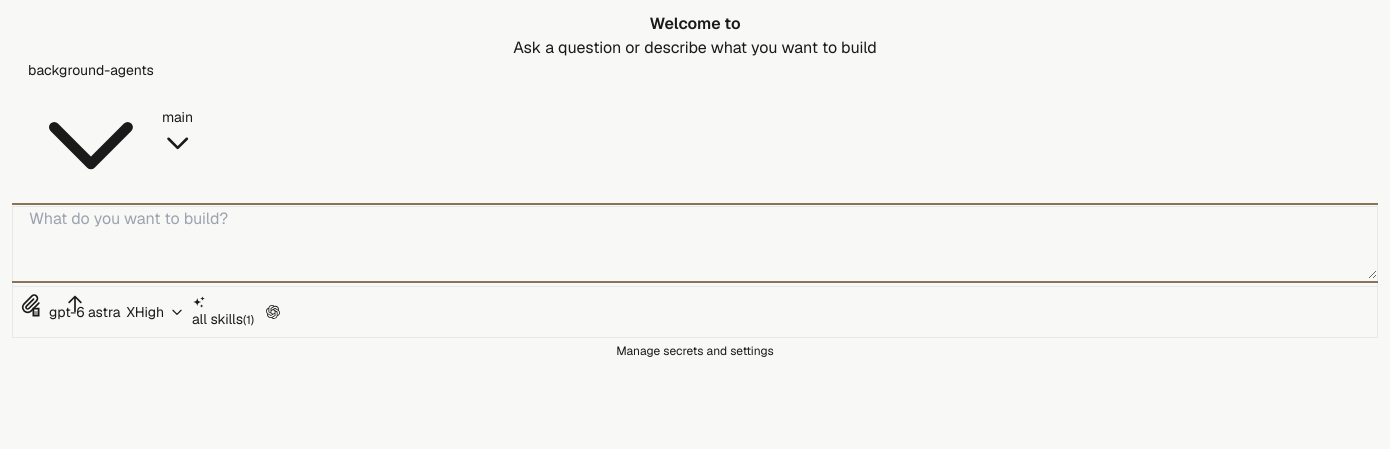
Test: Home › surfaces the error and stays put when the initial prompt fails
The width and height of the screenshot is (1390, 449).
Click the button "background-agents" at (91, 133), box [28,60,154,206]
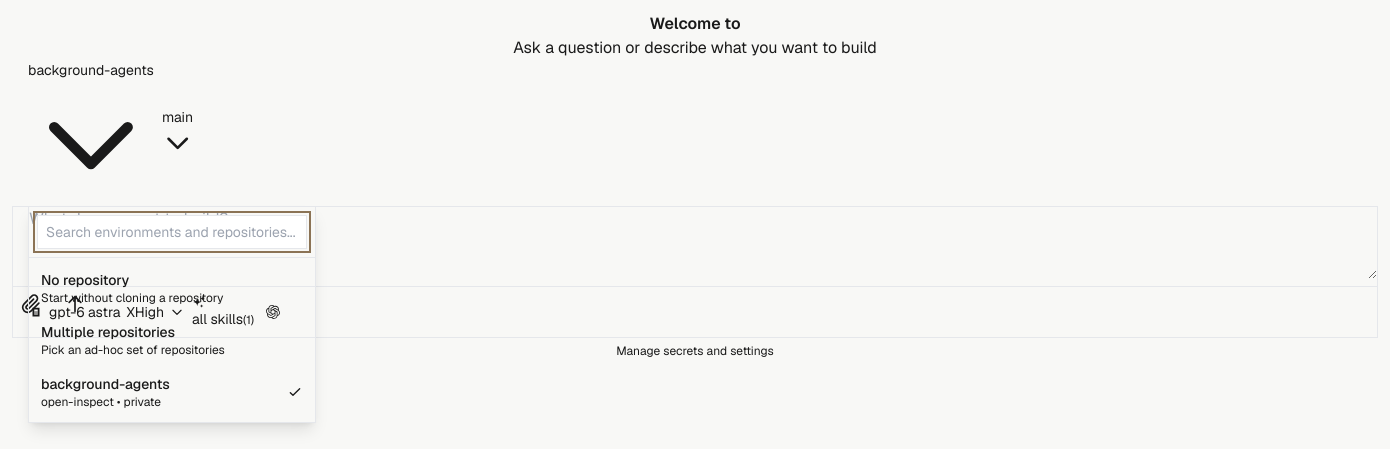
Click the option "No repository Start without cloning a repository" at (172, 288), box [29,262,315,314]
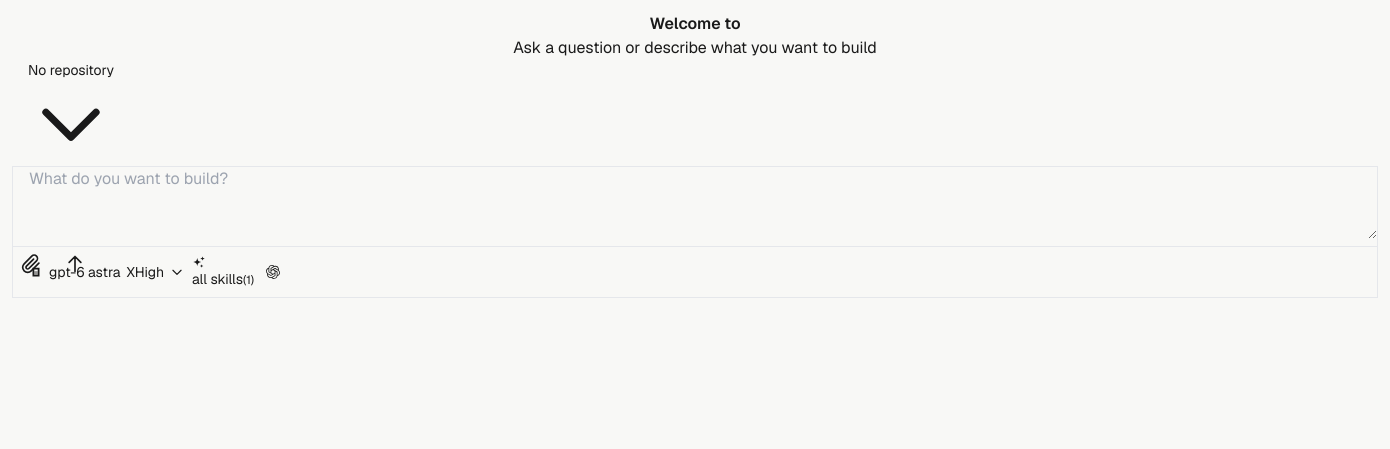
Type "Investigate logs" into the text box with placeholder "What do you want to build?" at (695, 203), box [13,167,1377,239]
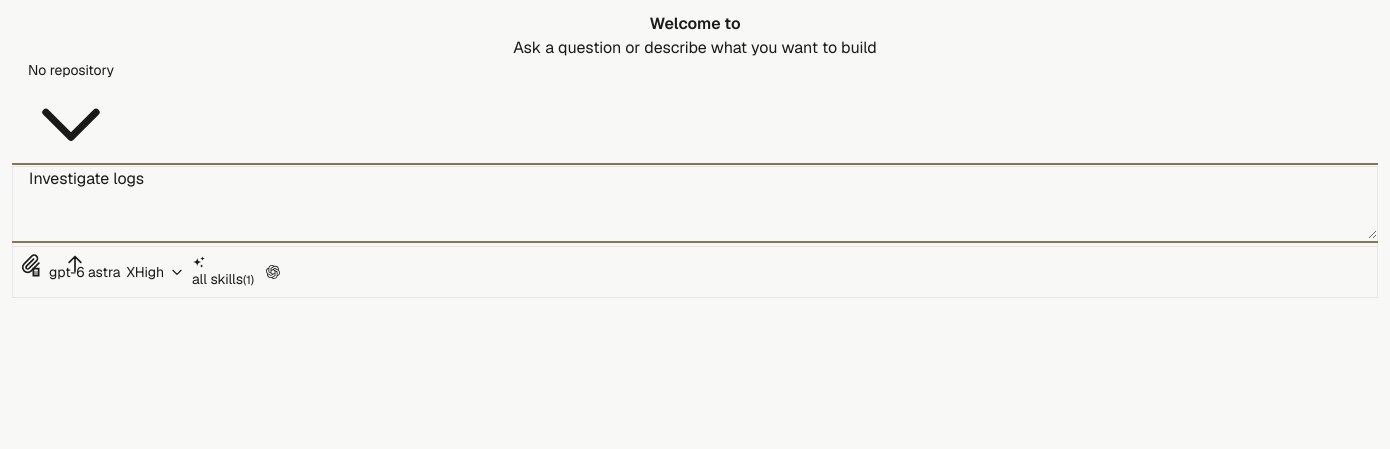
Click the button named "send" at (75, 264), box [57,246,93,282]
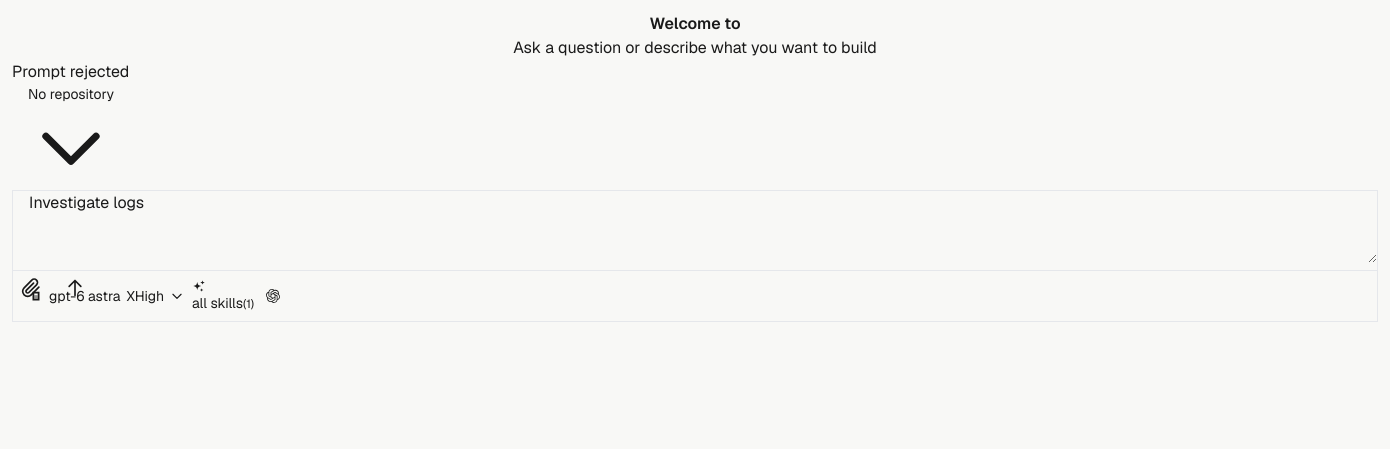
Now the text "Prompt rejected" is shown, box [12,61,129,82]
